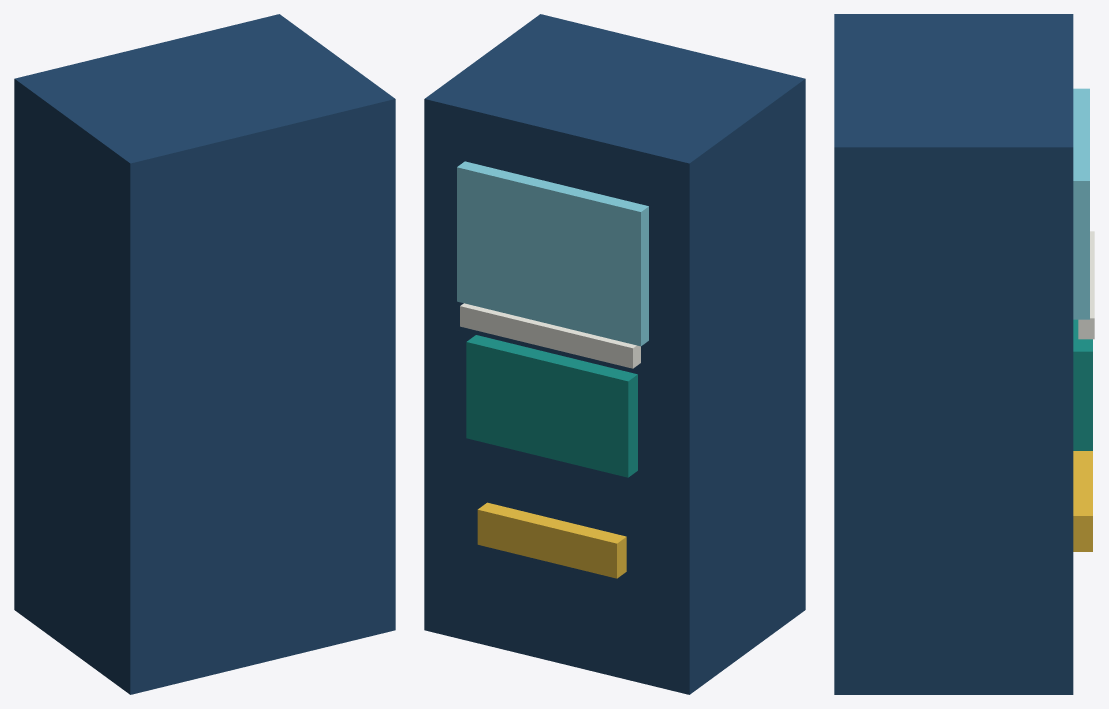
The picture shows the model from 3 angles, left to right: view 1: azimuth 30°, elevation 25°; view 2: azimuth 150°, elevation 25°; view 3: azimuth 270°, elevation 25°; orthographic projection. The views are drawn at different scales.
Visible parts, largest first — view 1: ticket-kiosk; view 2: ticket-kiosk, screen, touch-panel, ticket-slot, status-light; view 3: ticket-kiosk, screen, touch-panel, ticket-slot, status-light.
Boxes of the visible parts, bbox=[...] form: ticket-kiosk: bbox=[14, 14, 395, 694]; ticket-kiosk: bbox=[424, 14, 805, 694]; screen: bbox=[457, 161, 648, 346]; touch-panel: bbox=[466, 335, 637, 477]; ticket-slot: bbox=[477, 502, 626, 578]; status-light: bbox=[460, 303, 640, 368]; ticket-kiosk: bbox=[834, 14, 1073, 694]; screen: bbox=[1073, 88, 1089, 319]; touch-panel: bbox=[1073, 319, 1092, 450]; ticket-slot: bbox=[1073, 451, 1092, 551]; status-light: bbox=[1078, 231, 1094, 339].
Size of the model in its own units: 0.95 by 1.82 by 0.785.
